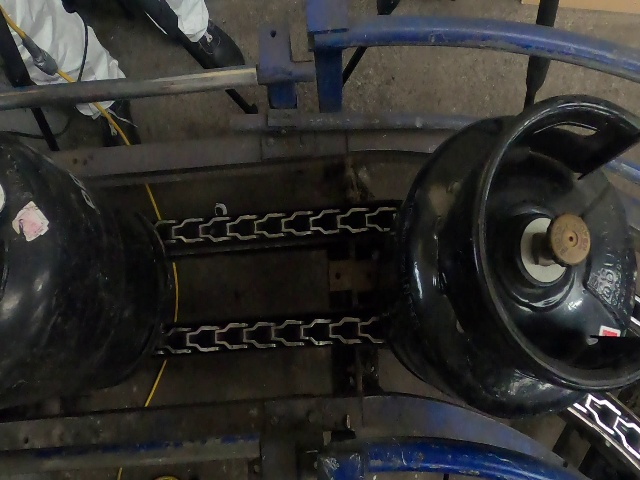gas_bottle: (4, 0, 640, 465)
